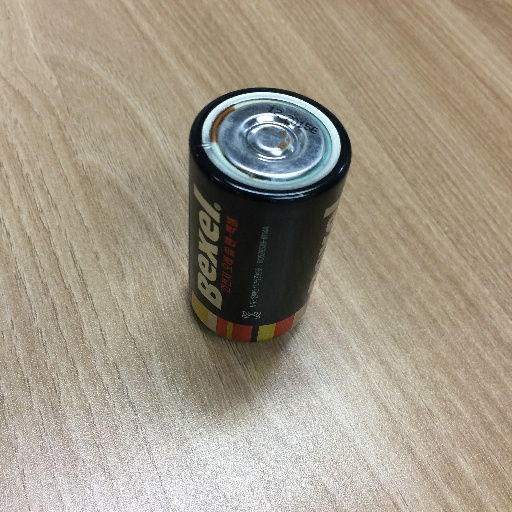Battery_0: (171, 69, 357, 356)
